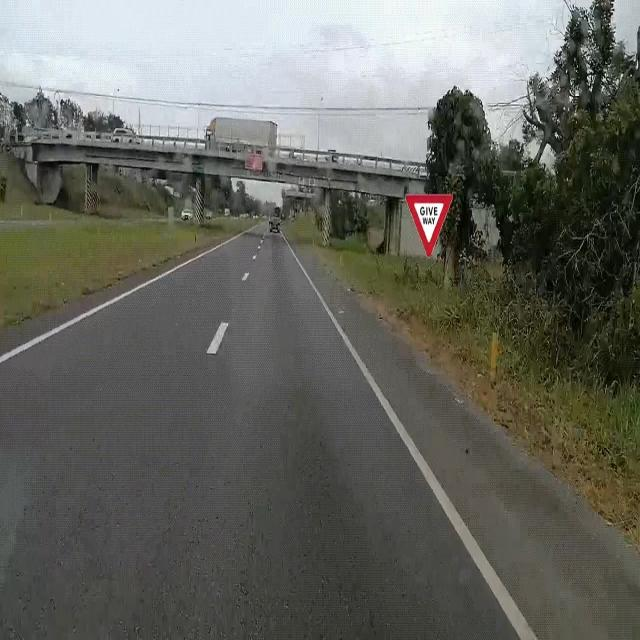Ceder-le-Passage: (401, 180, 459, 264)
